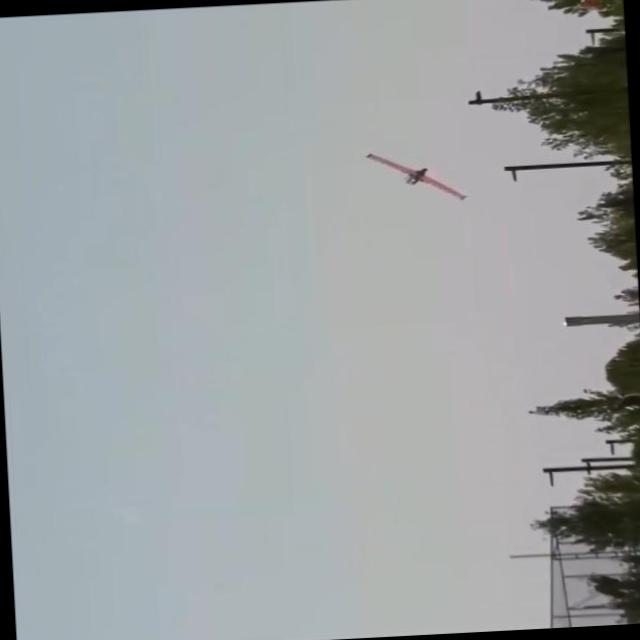UAV: (377, 130, 484, 193)
